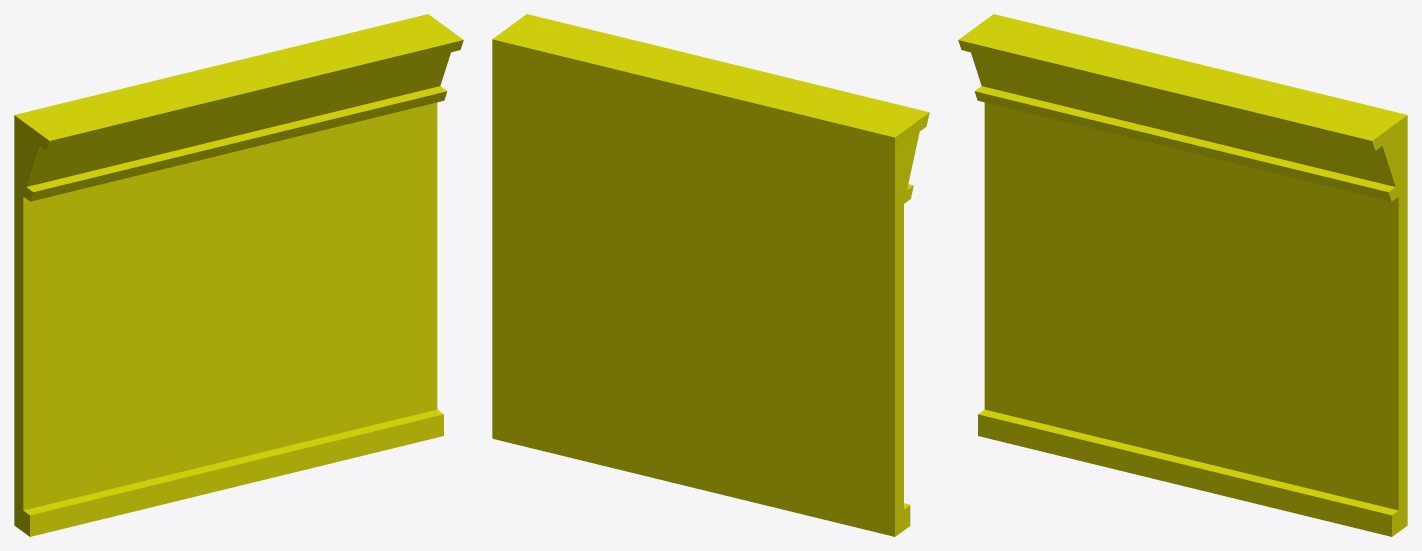
File: BasementHallWall.fbx
The picture shows the model from 3 angles, left to right: view 1: azimuth 30°, elevation 25°; view 2: azimuth 150°, elevation 25°; view 3: azimuth 330°, elevation 25°; orthographic projection. The views are drawn at different scales.
Visible parts, largest first — view 1: BasementHallWAll; view 2: BasementHallWAll; view 3: BasementHallWAll.
Part boxes in pixels (x1=…): BasementHallWAll: x1=14, y1=14, x2=463, y2=536; BasementHallWAll: x1=492, y1=14, x2=929, y2=536; BasementHallWAll: x1=958, y1=14, x2=1407, y2=536.
Bounding box in the file's own units: 368 × 349 × 54.68.
